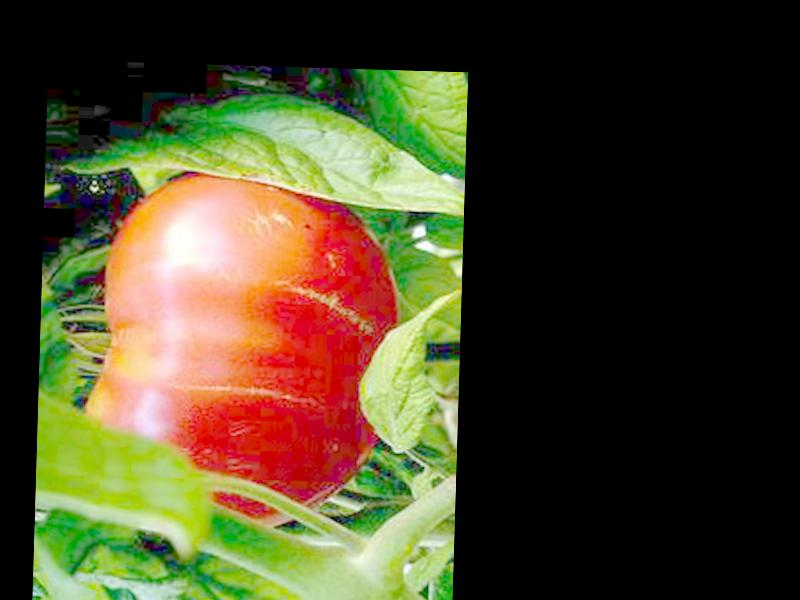Tomato: (80, 166, 401, 528)
